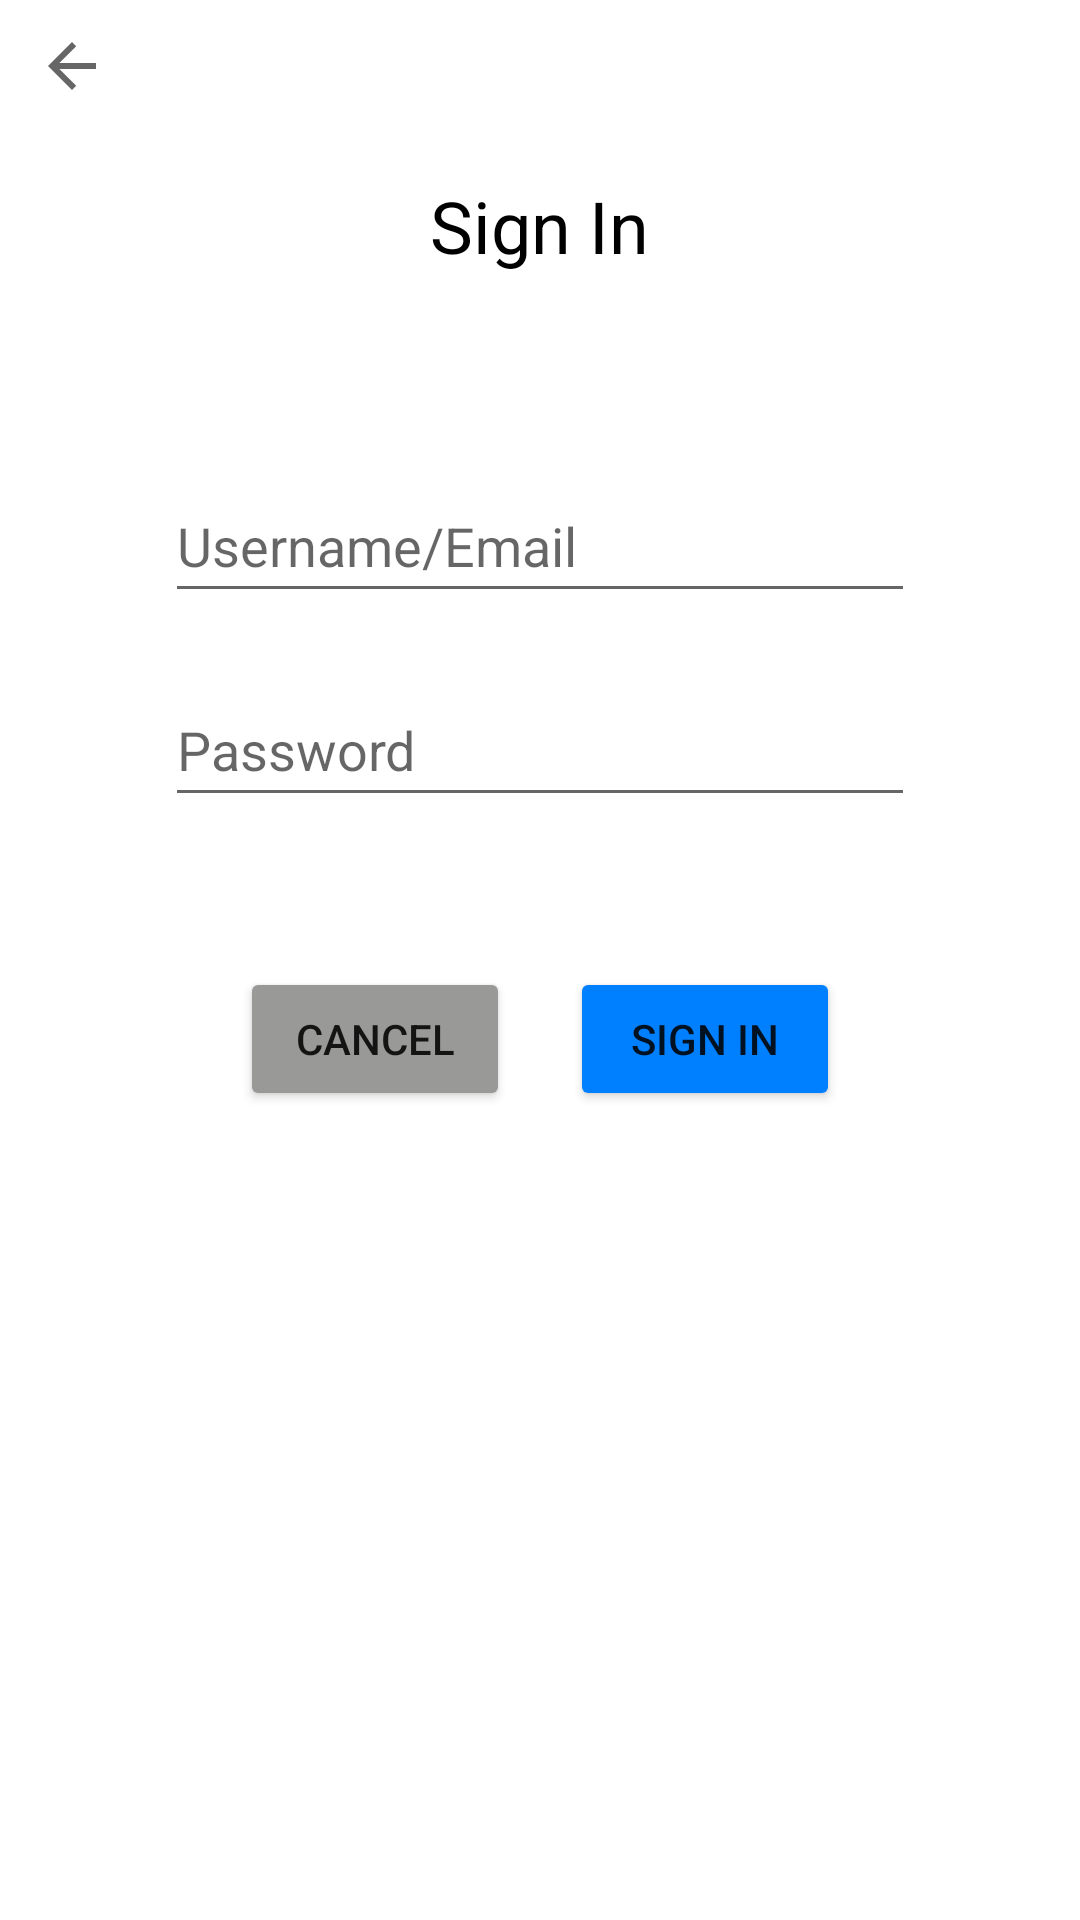

Where to tap for icons on this 1080x1920 app screen, as (x=x, y=y):
Return to Front page: (x=72, y=66)
